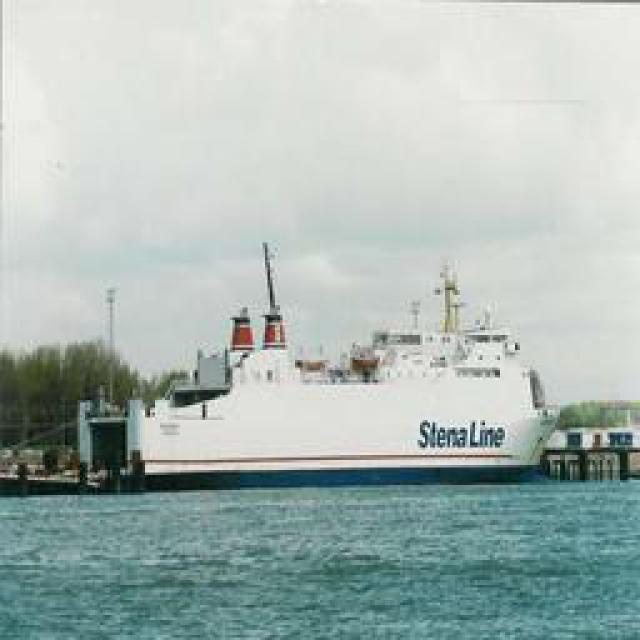Ship: (70, 246, 558, 486)
